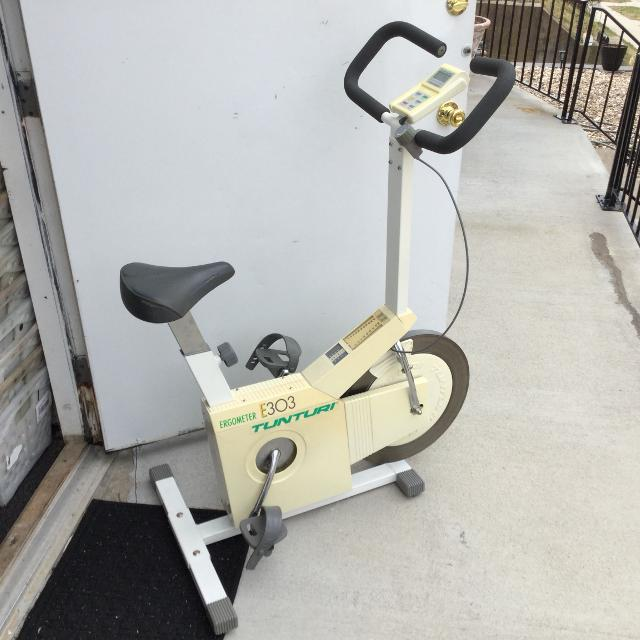gym_bike: (115, 23, 515, 590)
